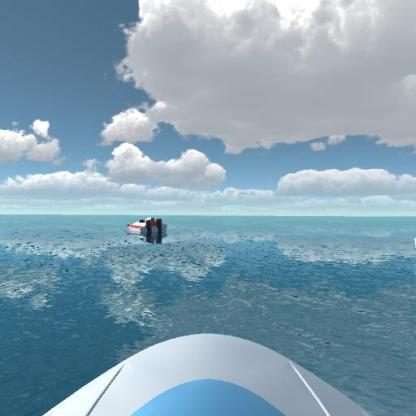usv3: (125, 214, 170, 247)
